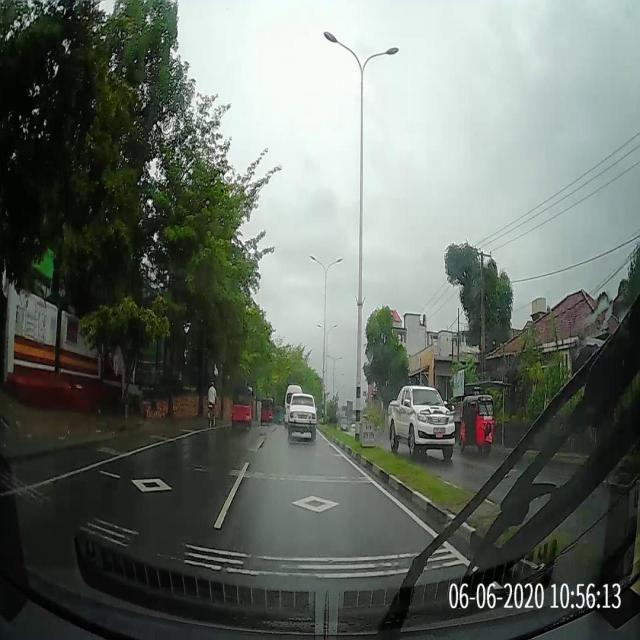Liniya 1: (323, 437, 460, 556), (49, 432, 191, 482), (213, 460, 250, 531)
Romb: (289, 490, 338, 514), (133, 475, 170, 494)
